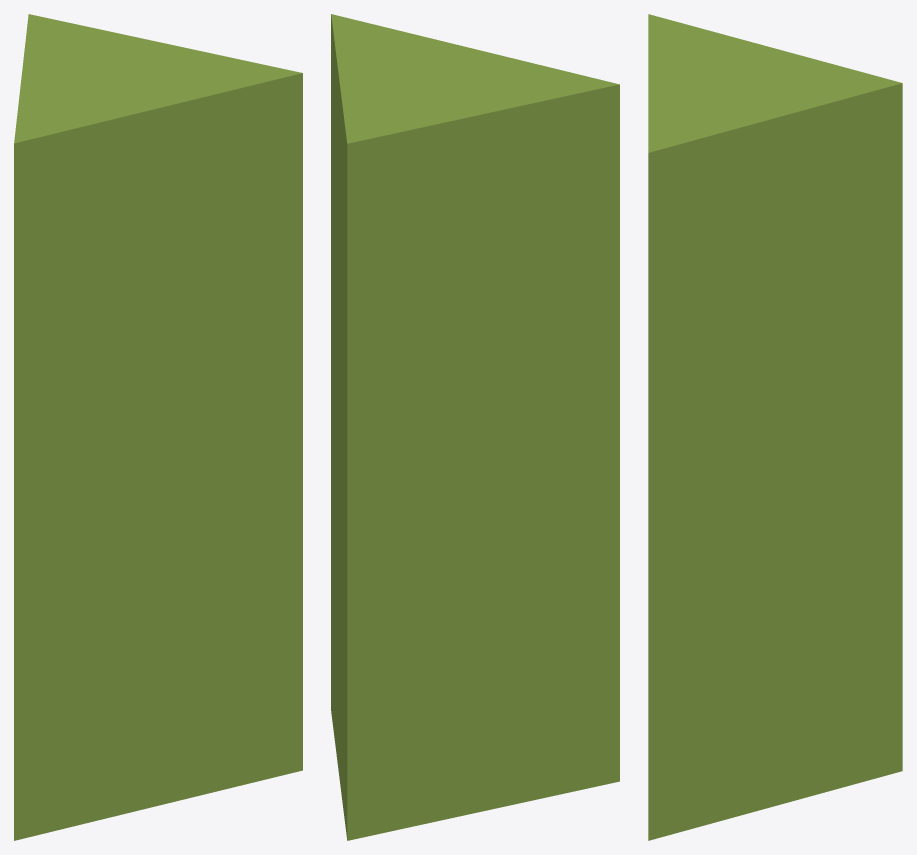
Rendered from PrismaSegitiga.dae.
3 views of the same model, side by side, from view 1: azimuth 30°, elevation 25°; view 2: azimuth 150°, elevation 25°; view 3: azimuth 270°, elevation 25° (orthographic).
Parts seen in each view (by area): view 1: group_0; view 2: group_0; view 3: group_0.
Boxes of the visible parts, box(x1,y1,x2,y2) form: group_0: box(14, 14, 302, 840); group_0: box(331, 14, 619, 840); group_0: box(648, 14, 902, 840).
Bounding box in the file's own units: 51.18 × 118 × 39.62.
